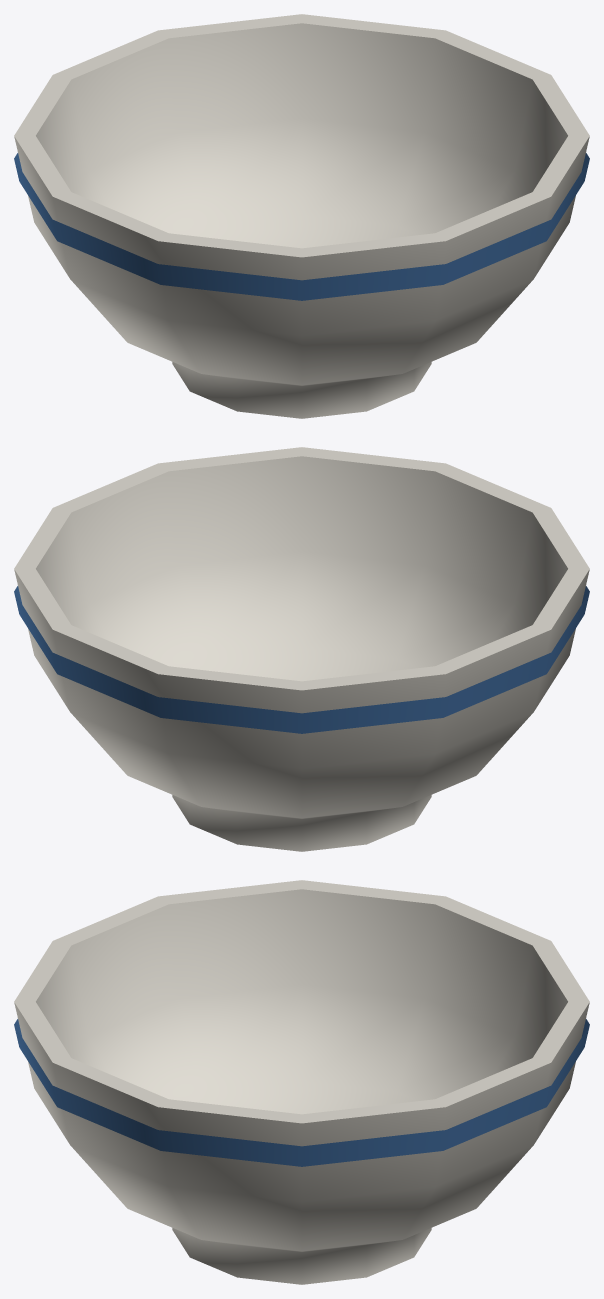
The model's file is bowl_empty.glb.
The picture shows the model from 3 angles, top to bottom: view 1: azimuth 30°, elevation 25°; view 2: azimuth 150°, elevation 25°; view 3: azimuth 270°, elevation 25°; orthographic projection.
Visible parts, largest first — view 1: bowl_empty; view 2: bowl_empty; view 3: bowl_empty.
Boxes of the visible parts, x1=… form: bowl_empty: x1=14, y1=14, x2=589, y2=418; bowl_empty: x1=14, y1=447, x2=589, y2=851; bowl_empty: x1=14, y1=880, x2=589, y2=1284.
Bounding box in the file's own units: 0.1601 × 0.07 × 0.1601.
